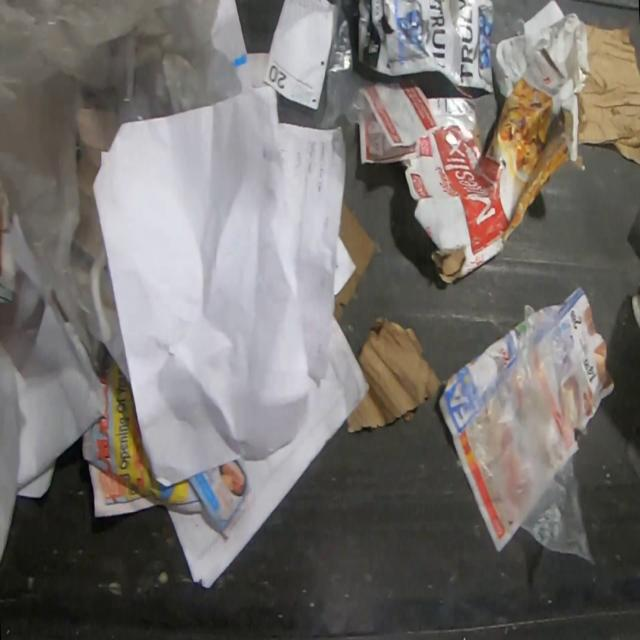cardboard: (400, 33, 580, 284), (346, 314, 442, 434), (334, 199, 379, 327)
soft_plastic: (456, 302, 598, 567), (318, 0, 428, 154)
